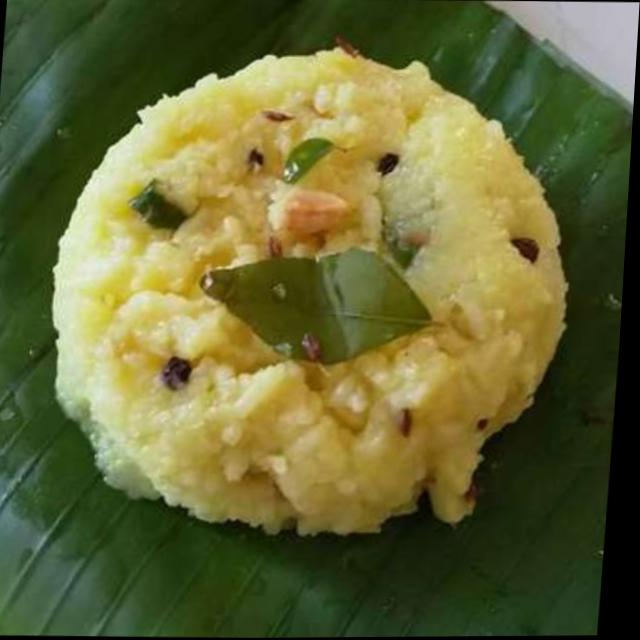PONGAL: (53, 47, 567, 533)
